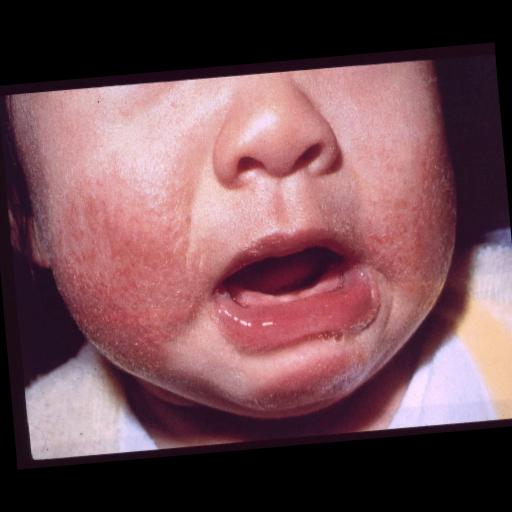Skin_Lesion: (264, 356, 358, 407), (110, 274, 156, 330), (371, 198, 411, 252), (428, 181, 451, 231), (104, 152, 138, 184), (84, 194, 113, 228), (76, 288, 92, 328), (320, 328, 345, 347), (164, 226, 184, 246)
